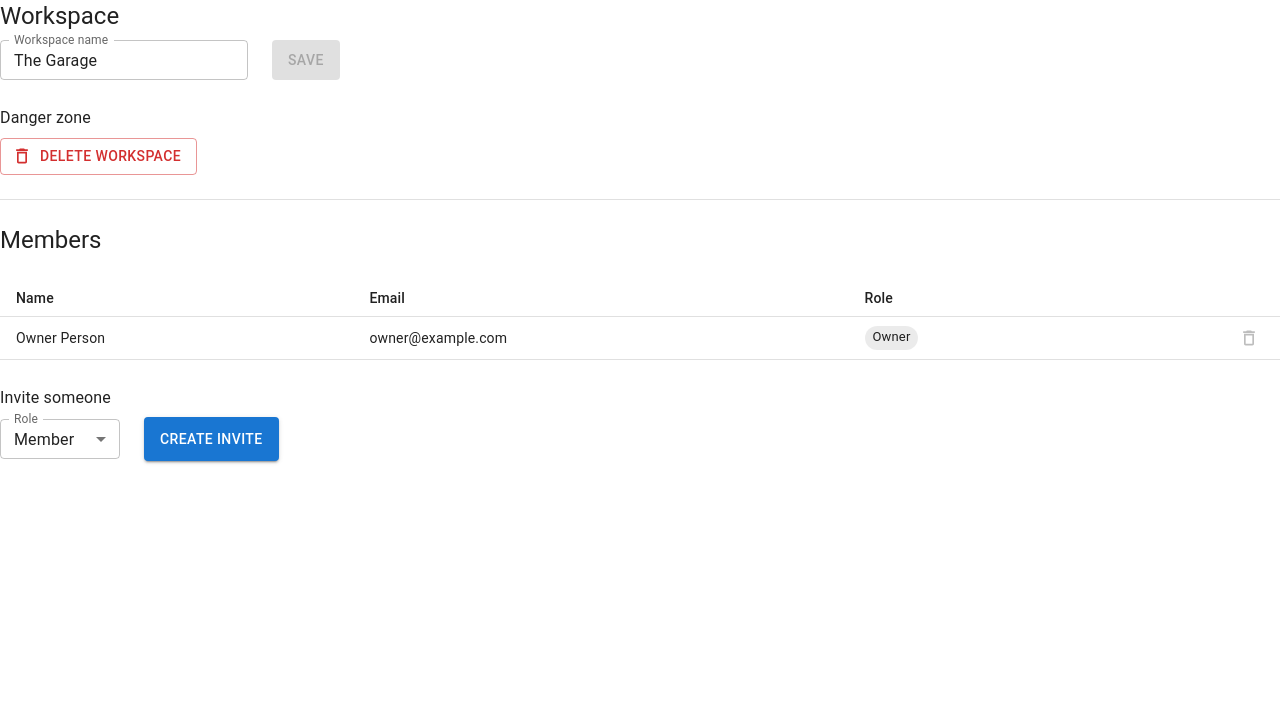
Test: MembersSettingsPage — workspace delete (EVT-47 AC2/AC4/AC5/AC6) › AC4: surfaces the server refusal (409, Default Workspace) as a clear in-dialog error
The width and height of the screenshot is (1280, 720).
Expected: the field labelled "Workspace name" is shown, [0,40,248,80]
Click the button "Delete workspace".
click(98, 156)  # box [0,138,197,174]
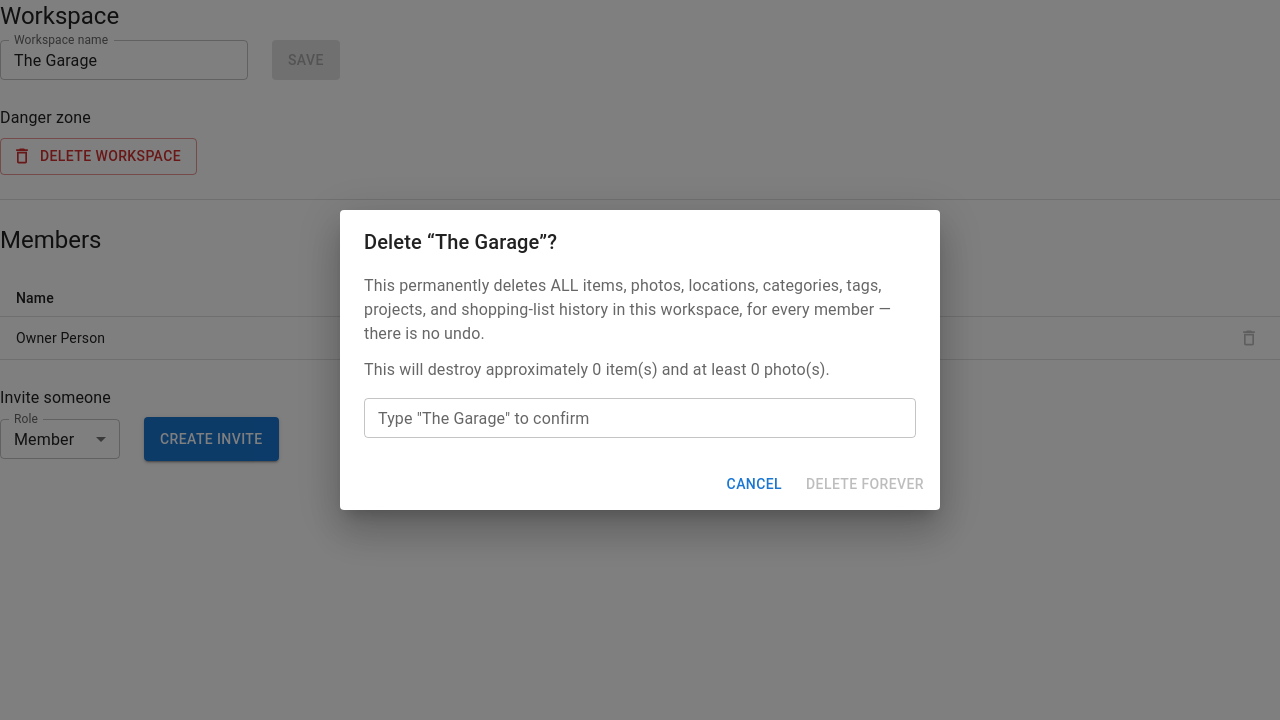
Type "The Garage" into the field named "Confirm workspace name".
click(640, 418); type("The Garage")  # box [364,398,916,438]
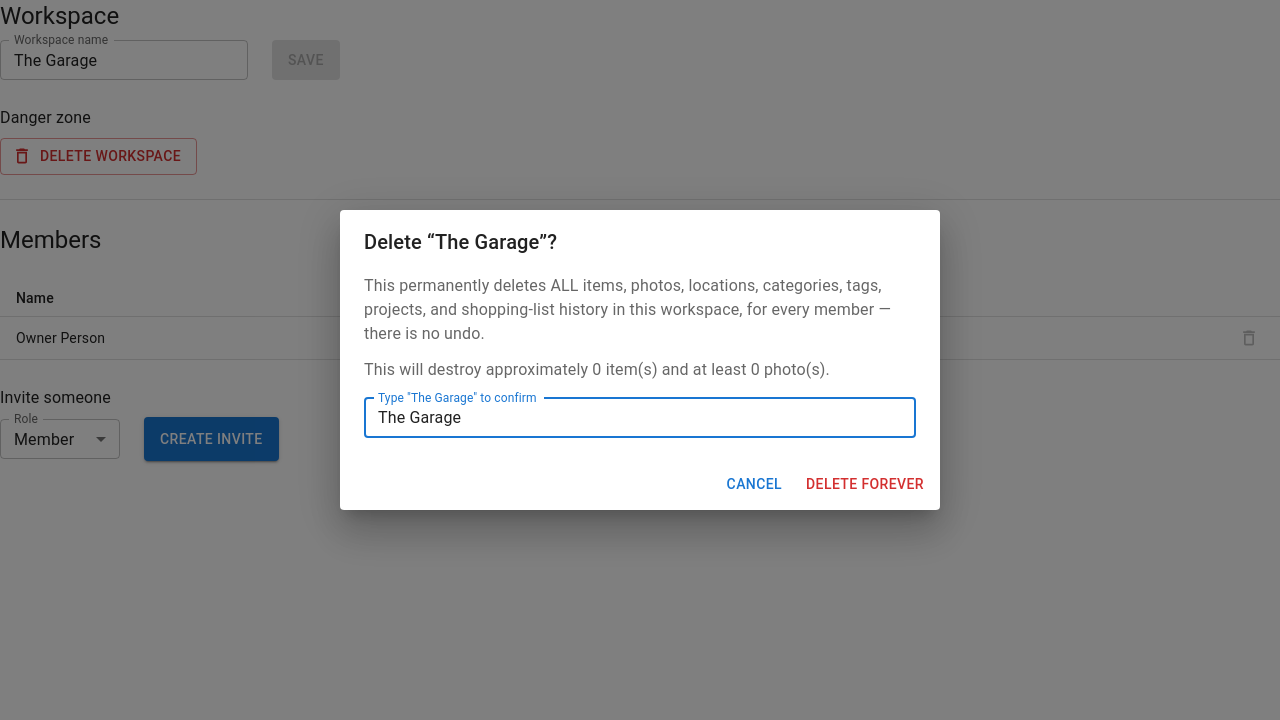
Click the button "Delete forever".
click(865, 484)  # box [798,466,932,502]
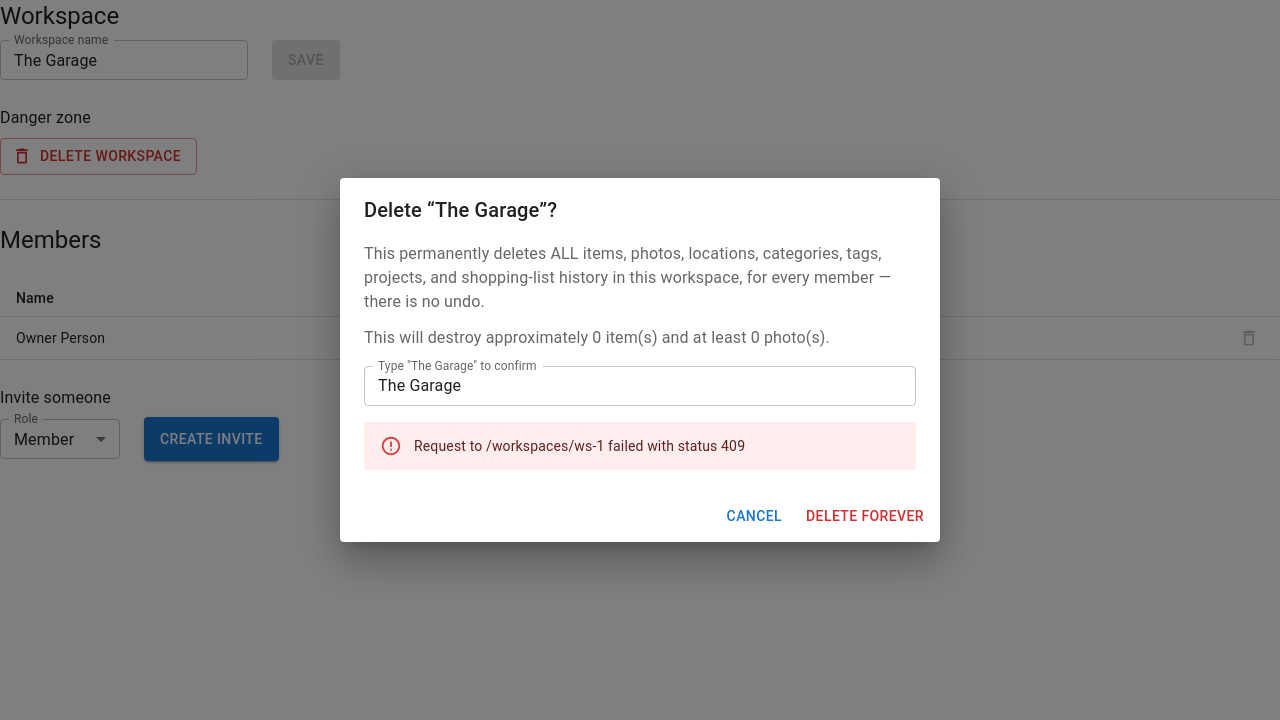
Expected: the dialog is shown, [340,178,940,542]
Expected: the text "Request to /workspaces/ws-1 failed with status 409" is shown, [414,438,745,454]
